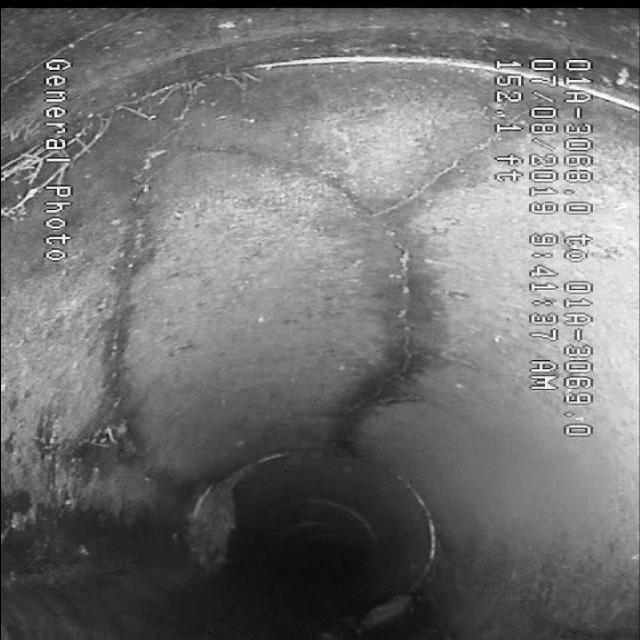Crack: (294, 154, 486, 428), (70, 136, 220, 472)
